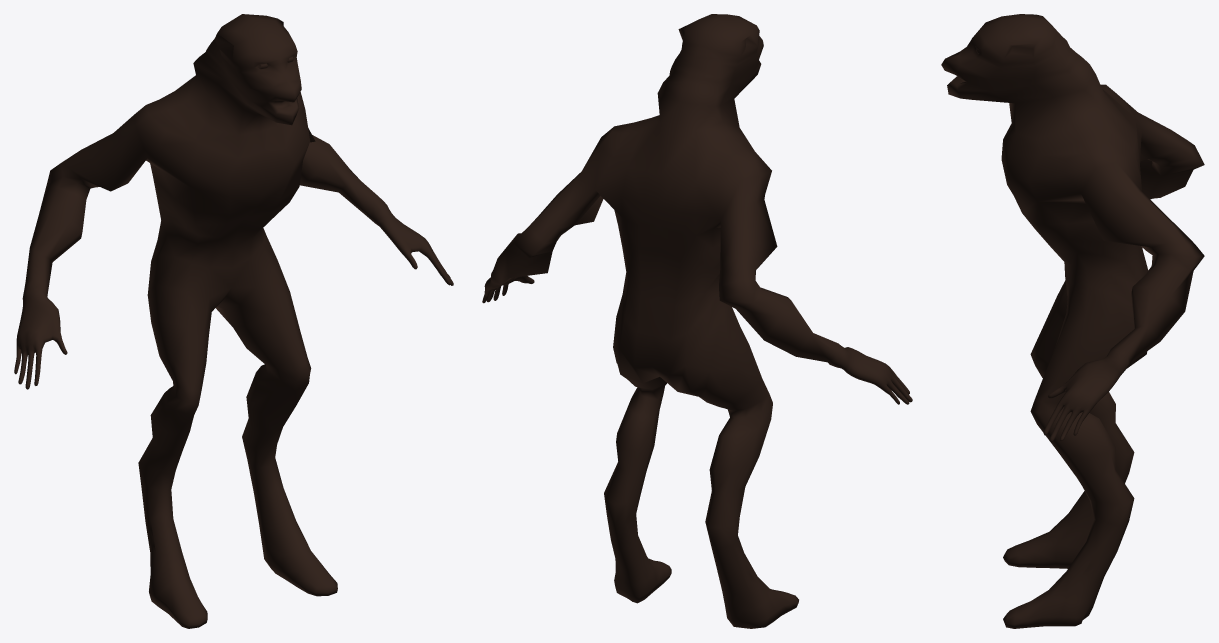
File: werewolf.glb
The picture shows the model from 3 angles, left to right: view 1: azimuth 30°, elevation 25°; view 2: azimuth 150°, elevation 25°; view 3: azimuth 270°, elevation 25°; orthographic projection. The views are drawn at different scales.
Visible parts, largest first — view 1: werewolf; view 2: werewolf; view 3: werewolf.
Part boxes in pixels (bbox=[...]): werewolf: bbox=[14, 14, 453, 628]; werewolf: bbox=[482, 14, 912, 628]; werewolf: bbox=[941, 14, 1204, 628].
Size of the model in its own units: 0.7681 by 1 by 0.4143.
Materials: 1 (1 with a texture image).
